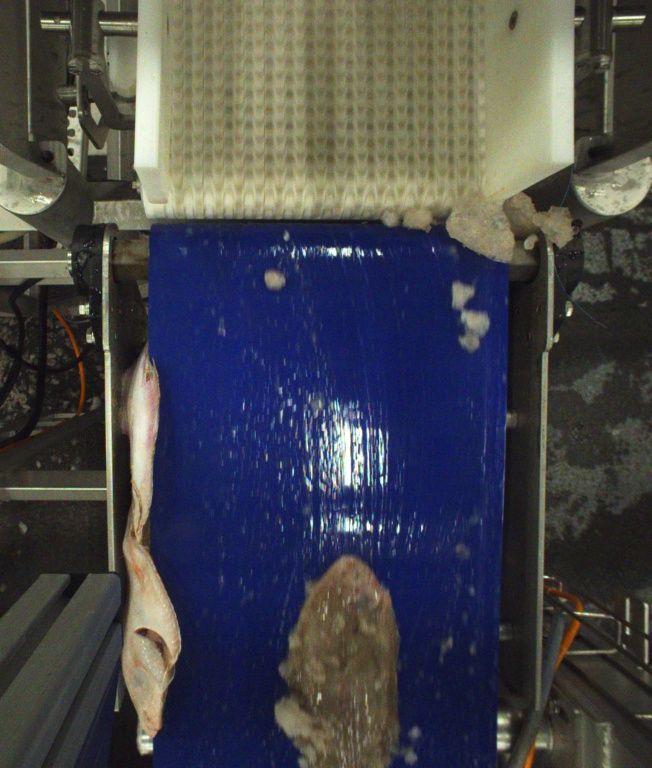SOL: (285, 557, 405, 768)
